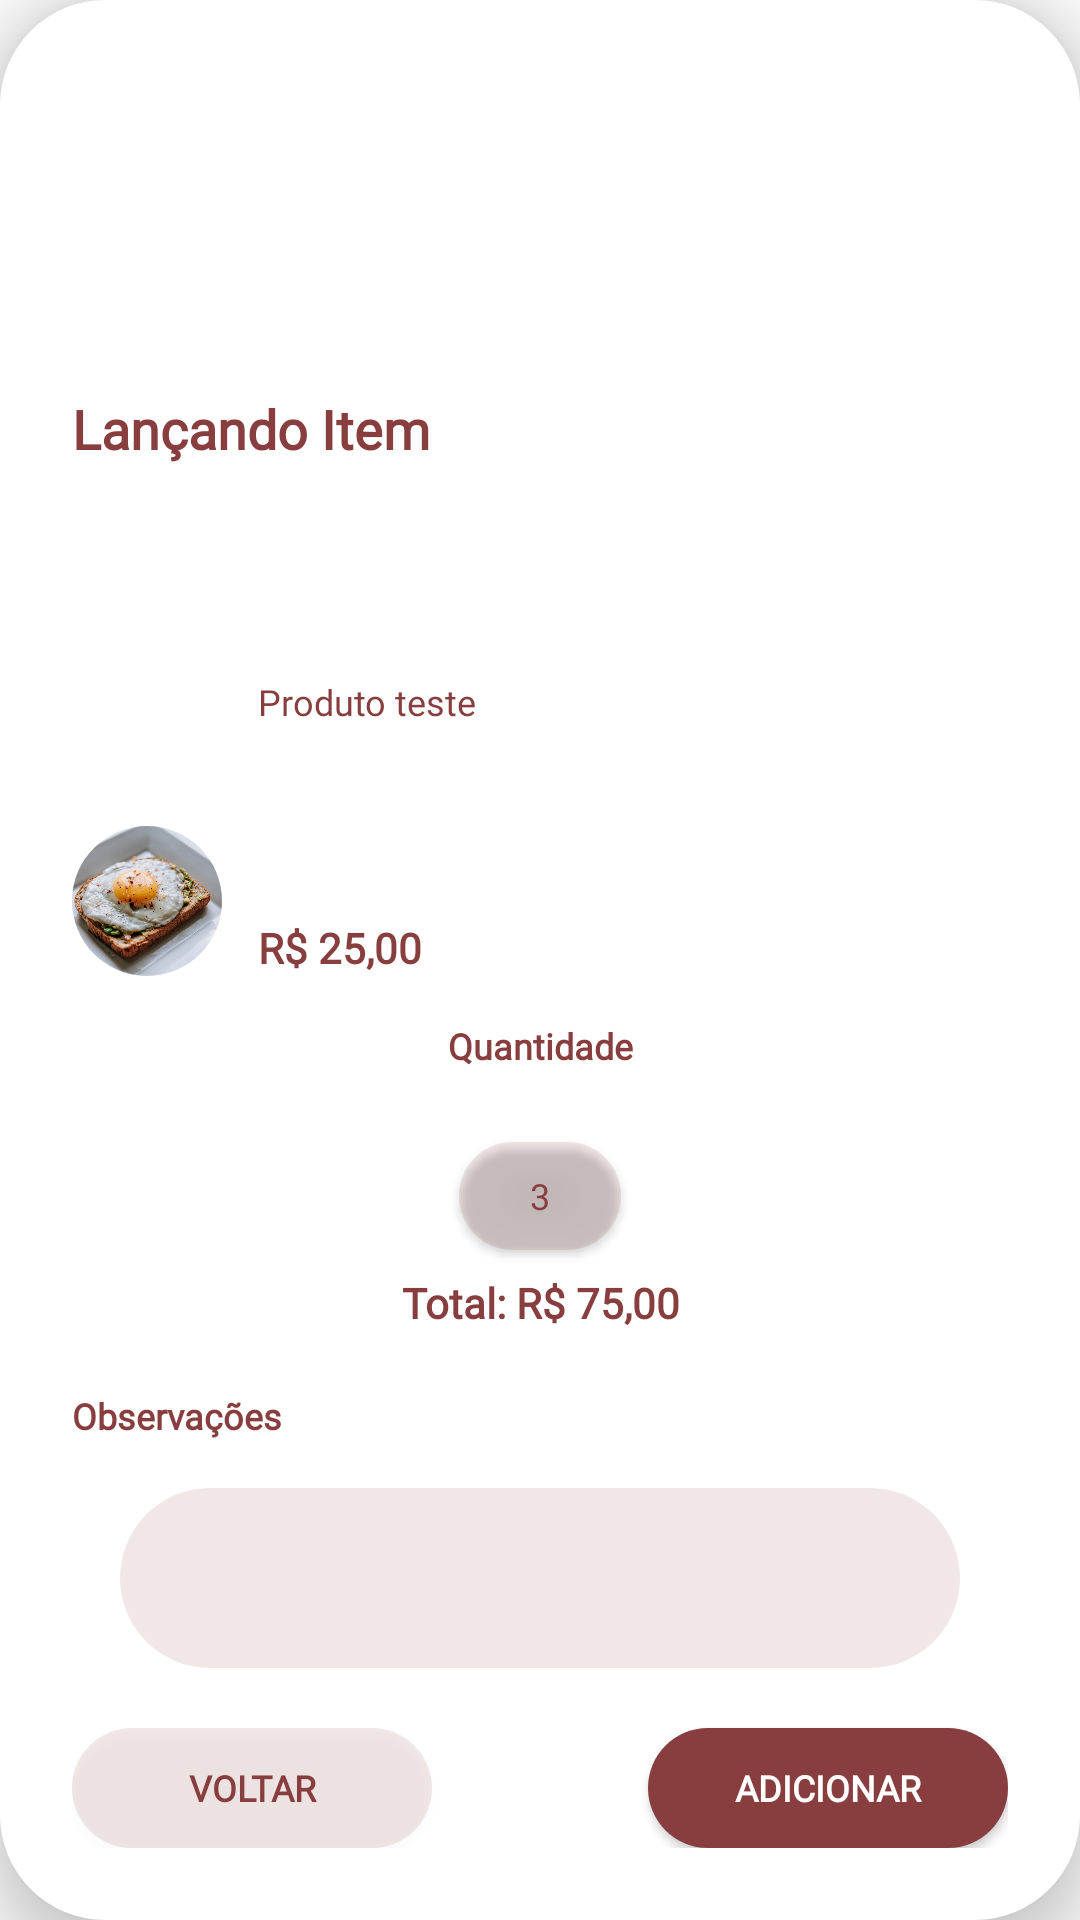

Where icons sit on this 1080×1920 app screen, as (x1, y1, x2, y2):
ovo: (72, 826, 222, 976)
